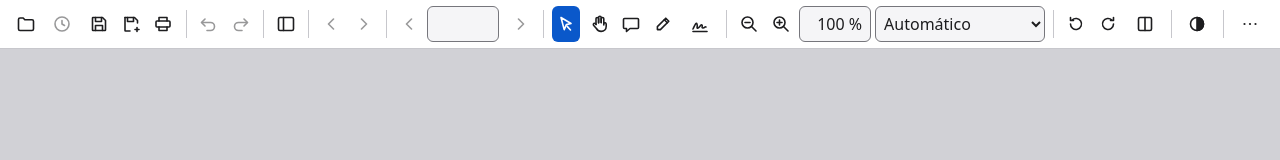
it: botón «Editar texto» en la barra «Editar» (PDF-147) › con ediciones muestra el contador y «Guardar»
Click the button named "Editar" at {"x": 663, "y": 24}, box left=649, top=6, right=678, bottom=42
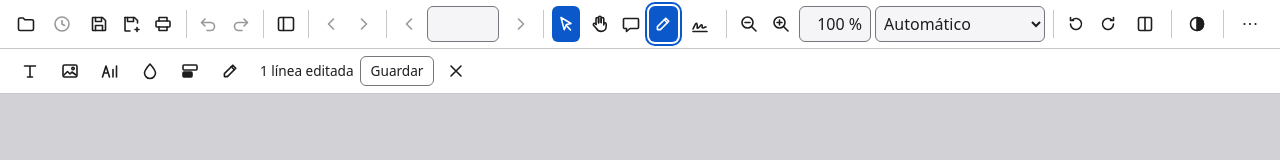
Check: the message reads "1 línea editada", box left=260, top=61, right=354, bottom=80
Check: the button "Guardar" is shown, box left=360, top=56, right=434, bottom=86
